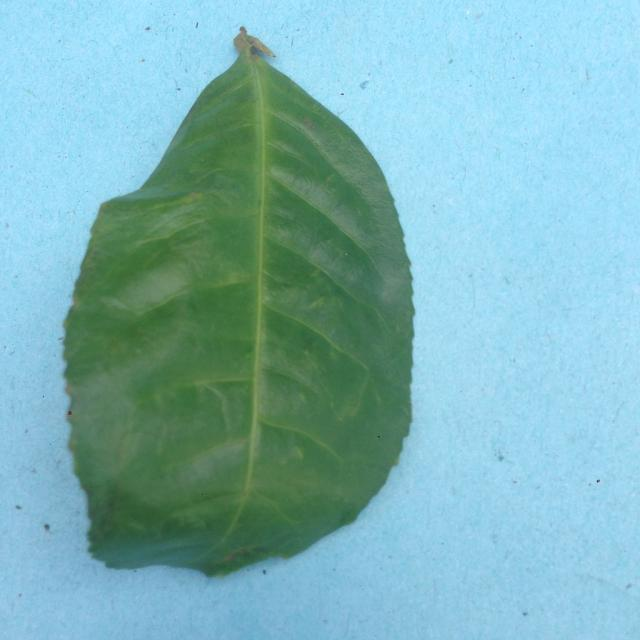Healthy: (51, 24, 457, 608)
